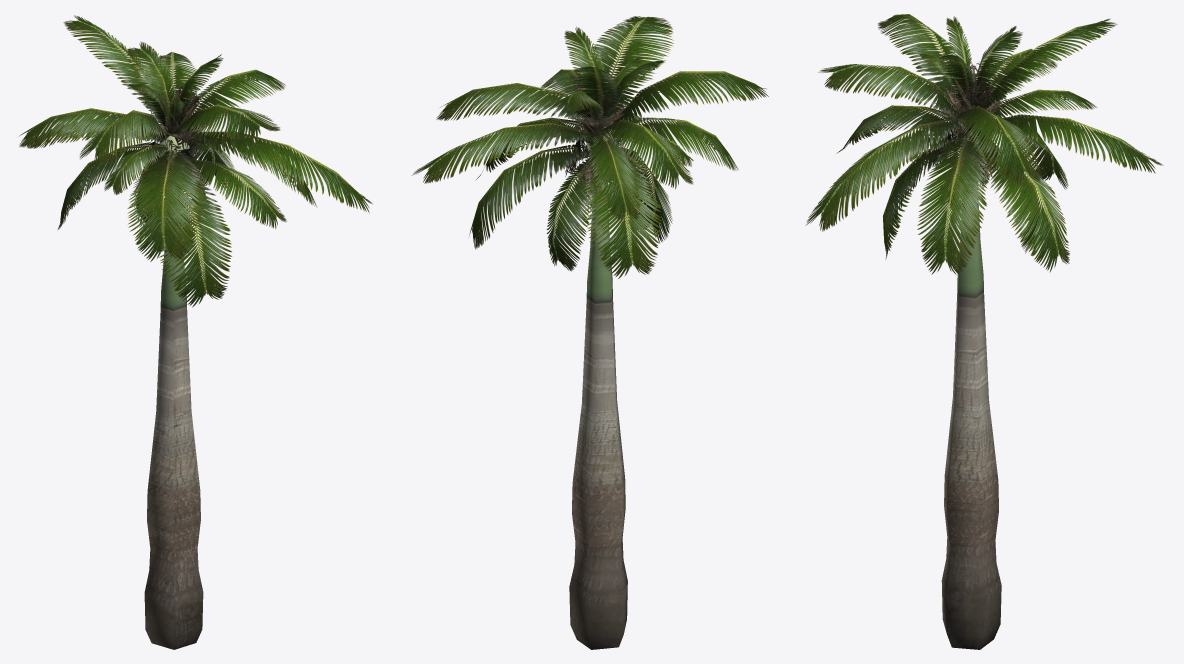
The model's file is Palm_Tropical_03.glb.
3 renders of one model, left to right at view 1: azimuth 30°, elevation 25°; view 2: azimuth 150°, elevation 25°; view 3: azimuth 270°, elevation 25°, orthographic. The views are drawn at different scales.
Parts seen in each view (by area): view 1: Palm1_VAR3; view 2: Palm1_VAR3; view 3: Palm1_VAR3.
Part boxes in pixels (box(x1,y1,x2,y2)): Palm1_VAR3: box(19, 15, 372, 649); Palm1_VAR3: box(411, 16, 768, 649); Palm1_VAR3: box(805, 14, 1163, 649).
Size of the model in its own units: 2.76 by 5.62 by 3.11.
1 material, 1 textured.
